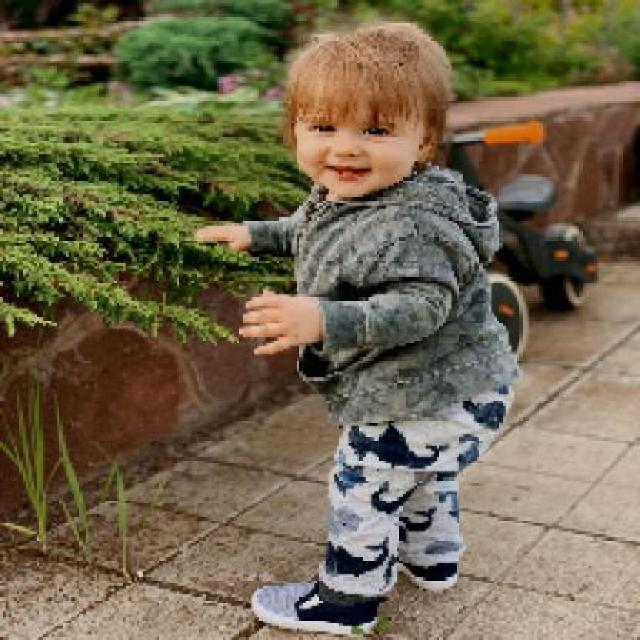child: (196, 19, 524, 635)
